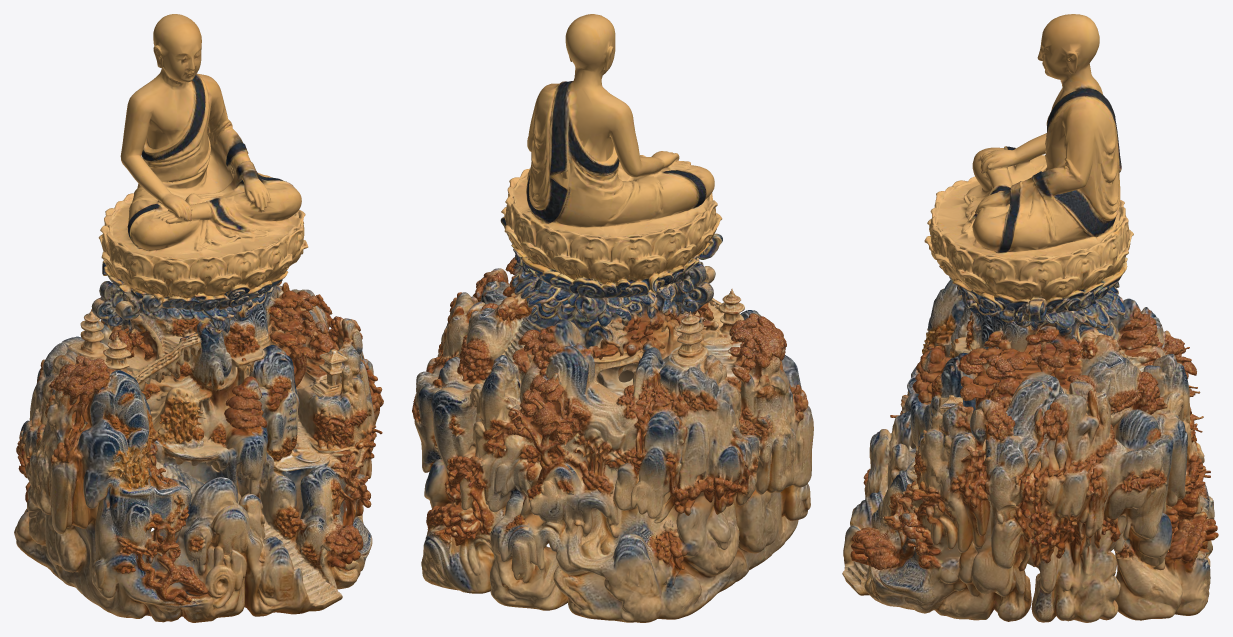
The model's file is thaythe.glb.
The picture shows the model from 3 angles, left to right: view 1: azimuth 30°, elevation 25°; view 2: azimuth 150°, elevation 25°; view 3: azimuth 270°, elevation 25°; orthographic projection. The views are drawn at different scales.
Size of the model in its own units: 1.27 by 1.9 by 1.18.
Materials: 1 (1 with a texture image).
